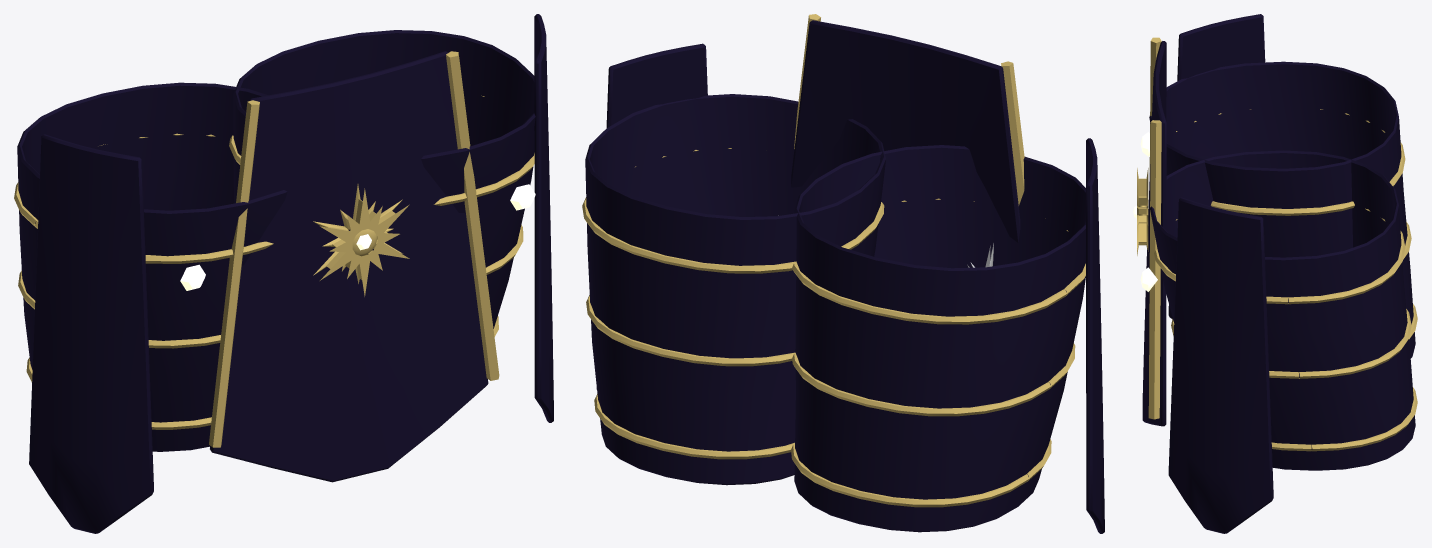
Rendered from esc_last_word_archon_leggings.glb.
3 views of the same model, side by side, from view 1: azimuth 30°, elevation 25°; view 2: azimuth 150°, elevation 25°; view 3: azimuth 270°, elevation 25° (orthographic). The views are drawn at different scales.
Parts seen in each view (by area): view 1: esc_last_word_archon_leggings, AT_thigh_R, AT_thigh_L; view 2: AT_thigh_R, AT_thigh_L, esc_last_word_archon_leggings; view 3: AT_thigh_L, AT_thigh_R, esc_last_word_archon_leggings.
Boxes of the visible parts, x1,y1,x2,y2 form: esc_last_word_archon_leggings: [209, 51, 499, 482]; AT_thigh_R: [14, 82, 287, 533]; AT_thigh_L: [229, 14, 553, 422]; AT_thigh_R: [791, 138, 1104, 533]; AT_thigh_L: [582, 43, 885, 485]; esc_last_word_archon_leggings: [778, 14, 1024, 267]; AT_thigh_L: [1140, 150, 1417, 533]; AT_thigh_R: [1140, 14, 1417, 358]; esc_last_word_archon_leggings: [1133, 37, 1166, 426].
Size of the model in its own units: 0.5162 by 0.4068 by 0.295.
